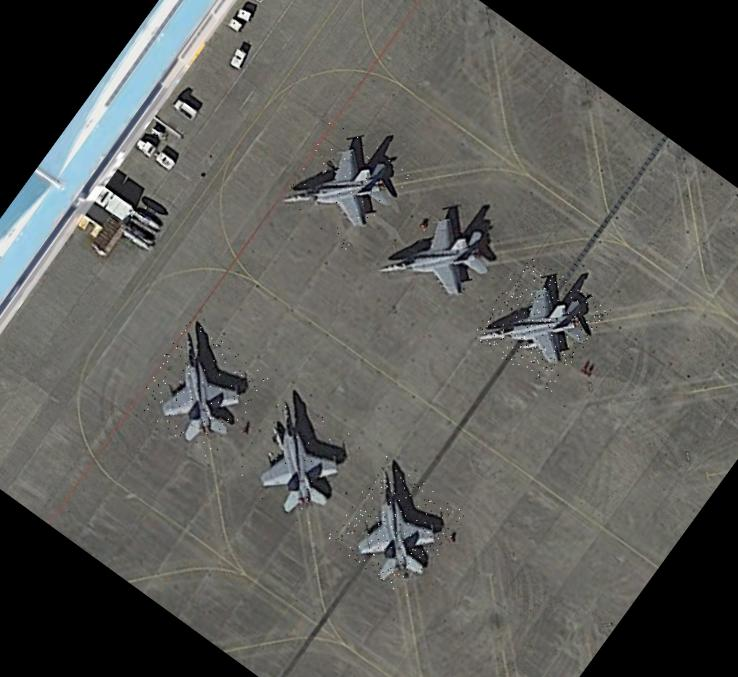A16: (469, 250, 612, 393), (370, 182, 512, 326), (130, 318, 272, 462), (274, 115, 416, 258), (225, 387, 367, 530), (326, 456, 468, 598)
